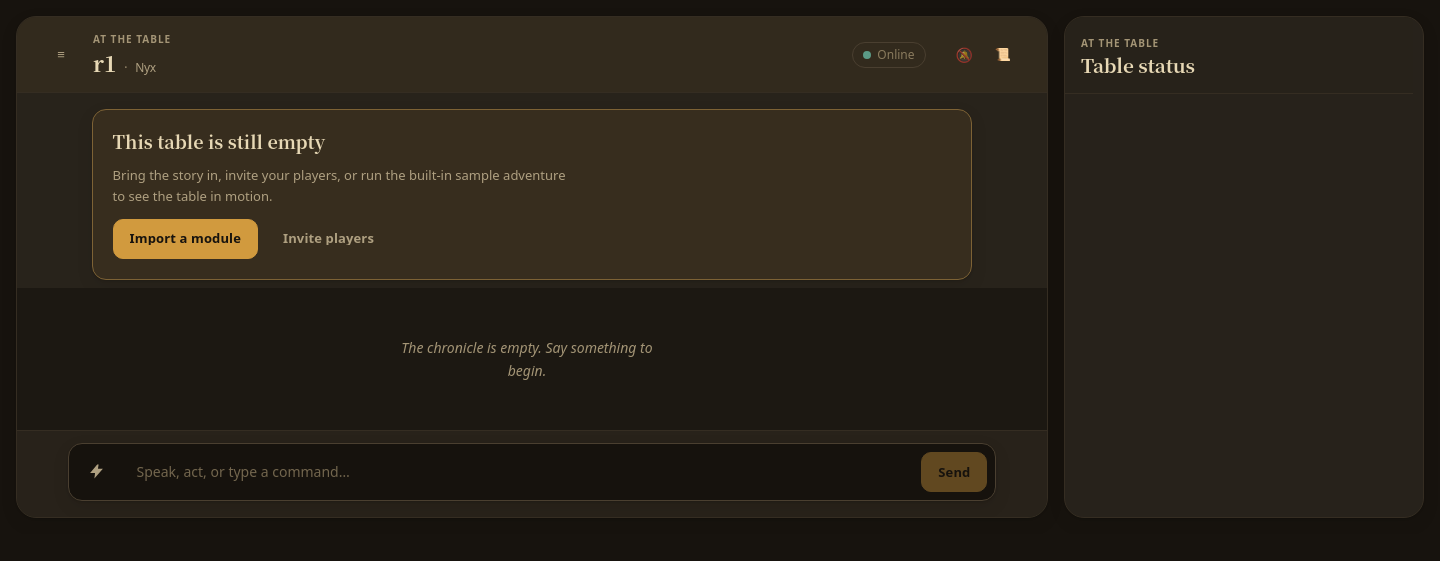
PlayView › returns to the connect form after a deliberate disconnect
Click the button named "Main menu" at coordinates (61, 54), box [41,34,81,74]
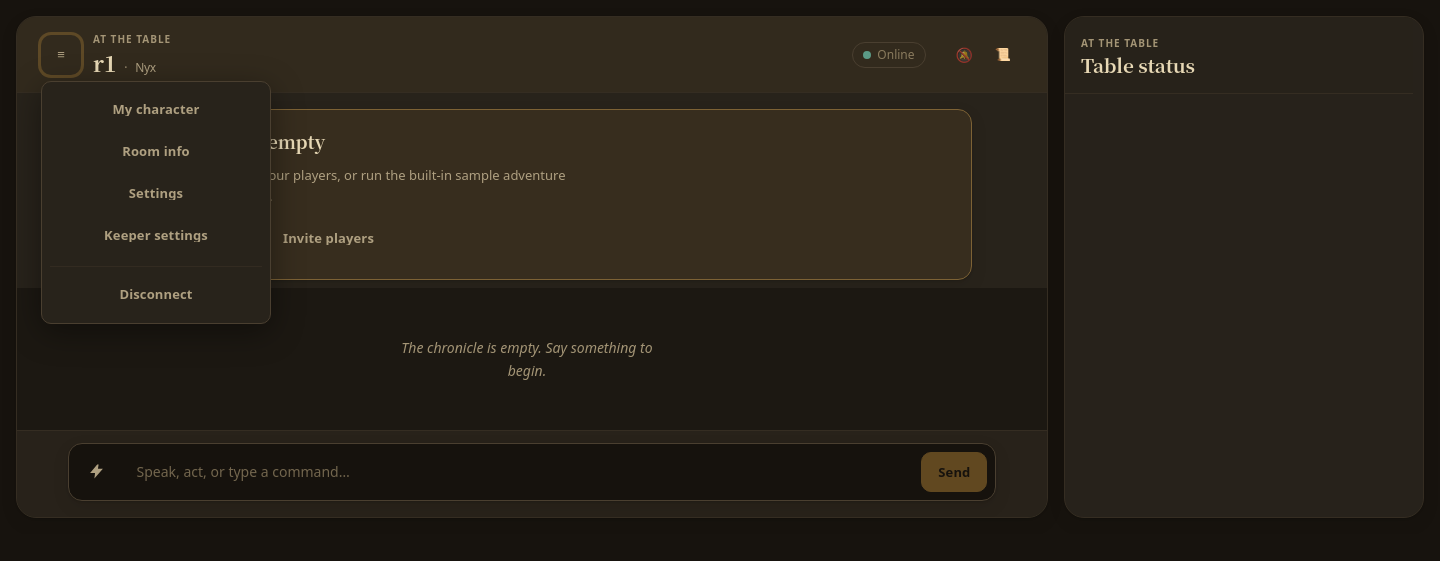
Click the menu item "Disconnect" at coordinates (156, 294), box [50,274,262,314]
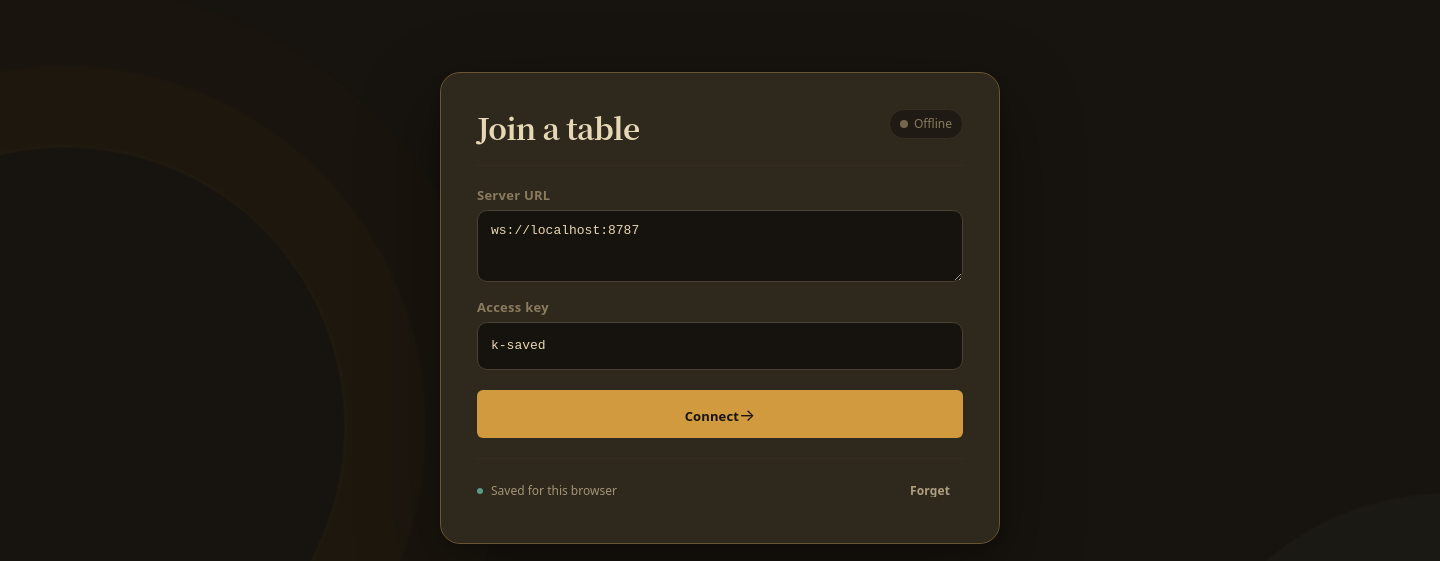
Expected: the button "Connect→" is shown, [477,390,963,438]
